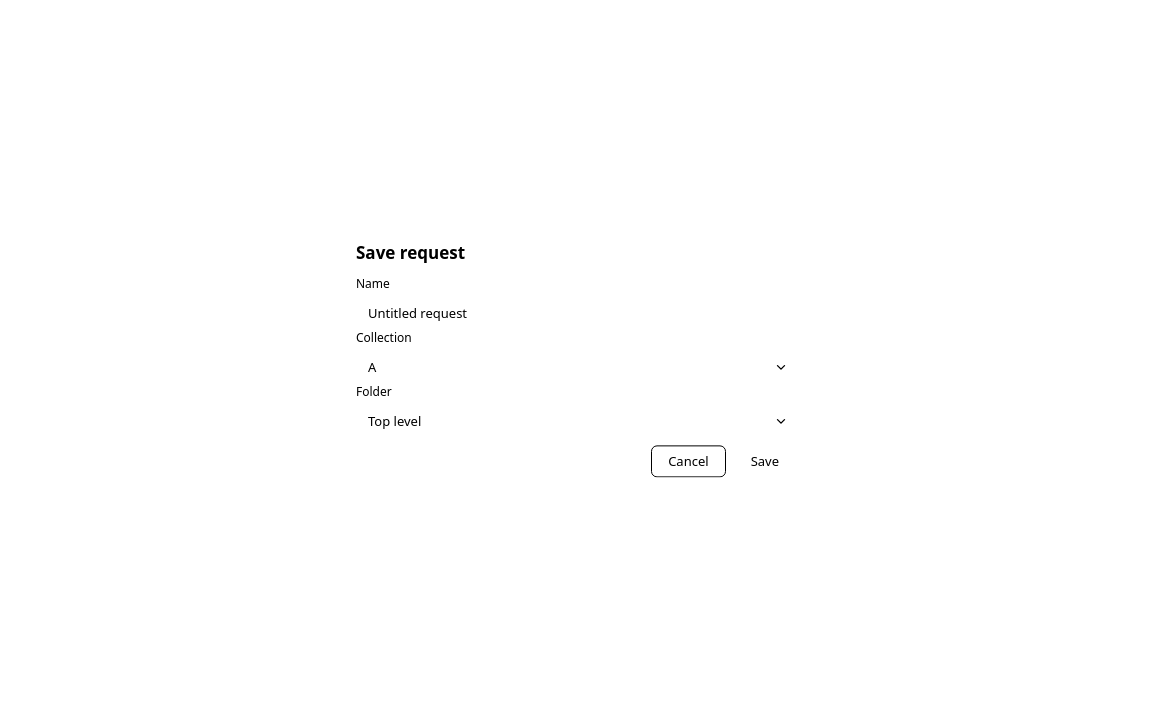
Test case: SaveDialog › stays open with an inline alert when the target vanished
This screenshot has width=1152, height=720.
Click the button "Save". click: {"x": 765, "y": 462}
box: [734, 446, 796, 478]
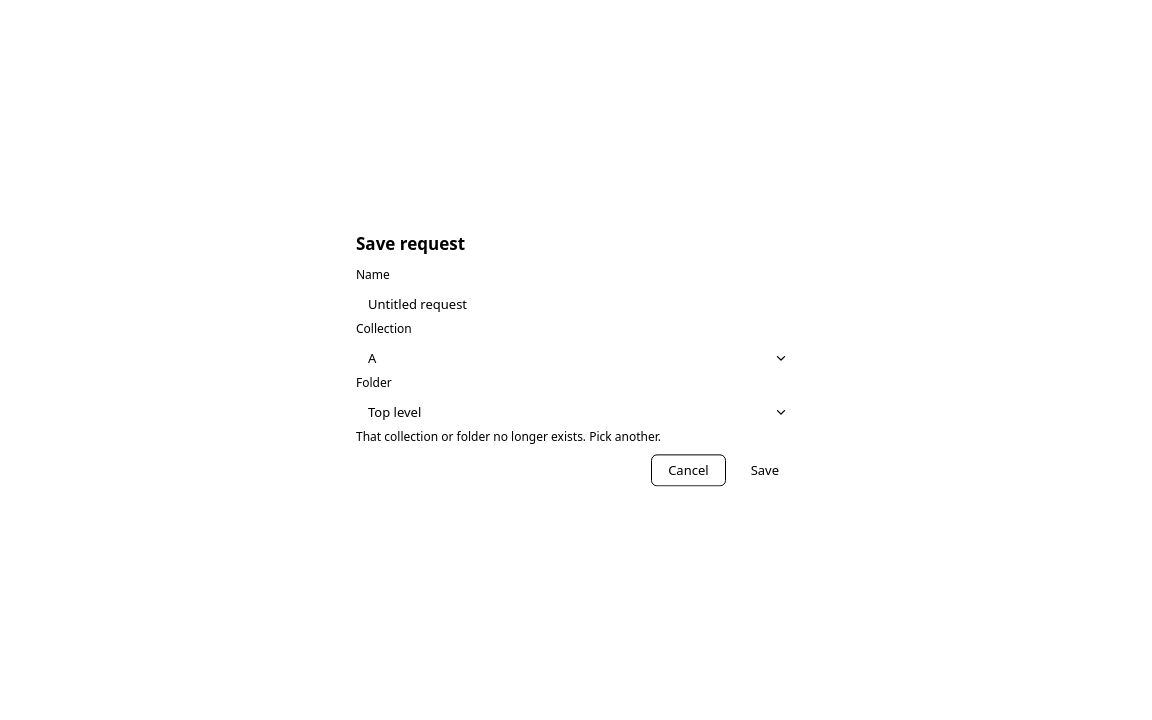
Expected: the message reads "That collection or folder no longer exists. Pick another.", [356, 429, 661, 446]
